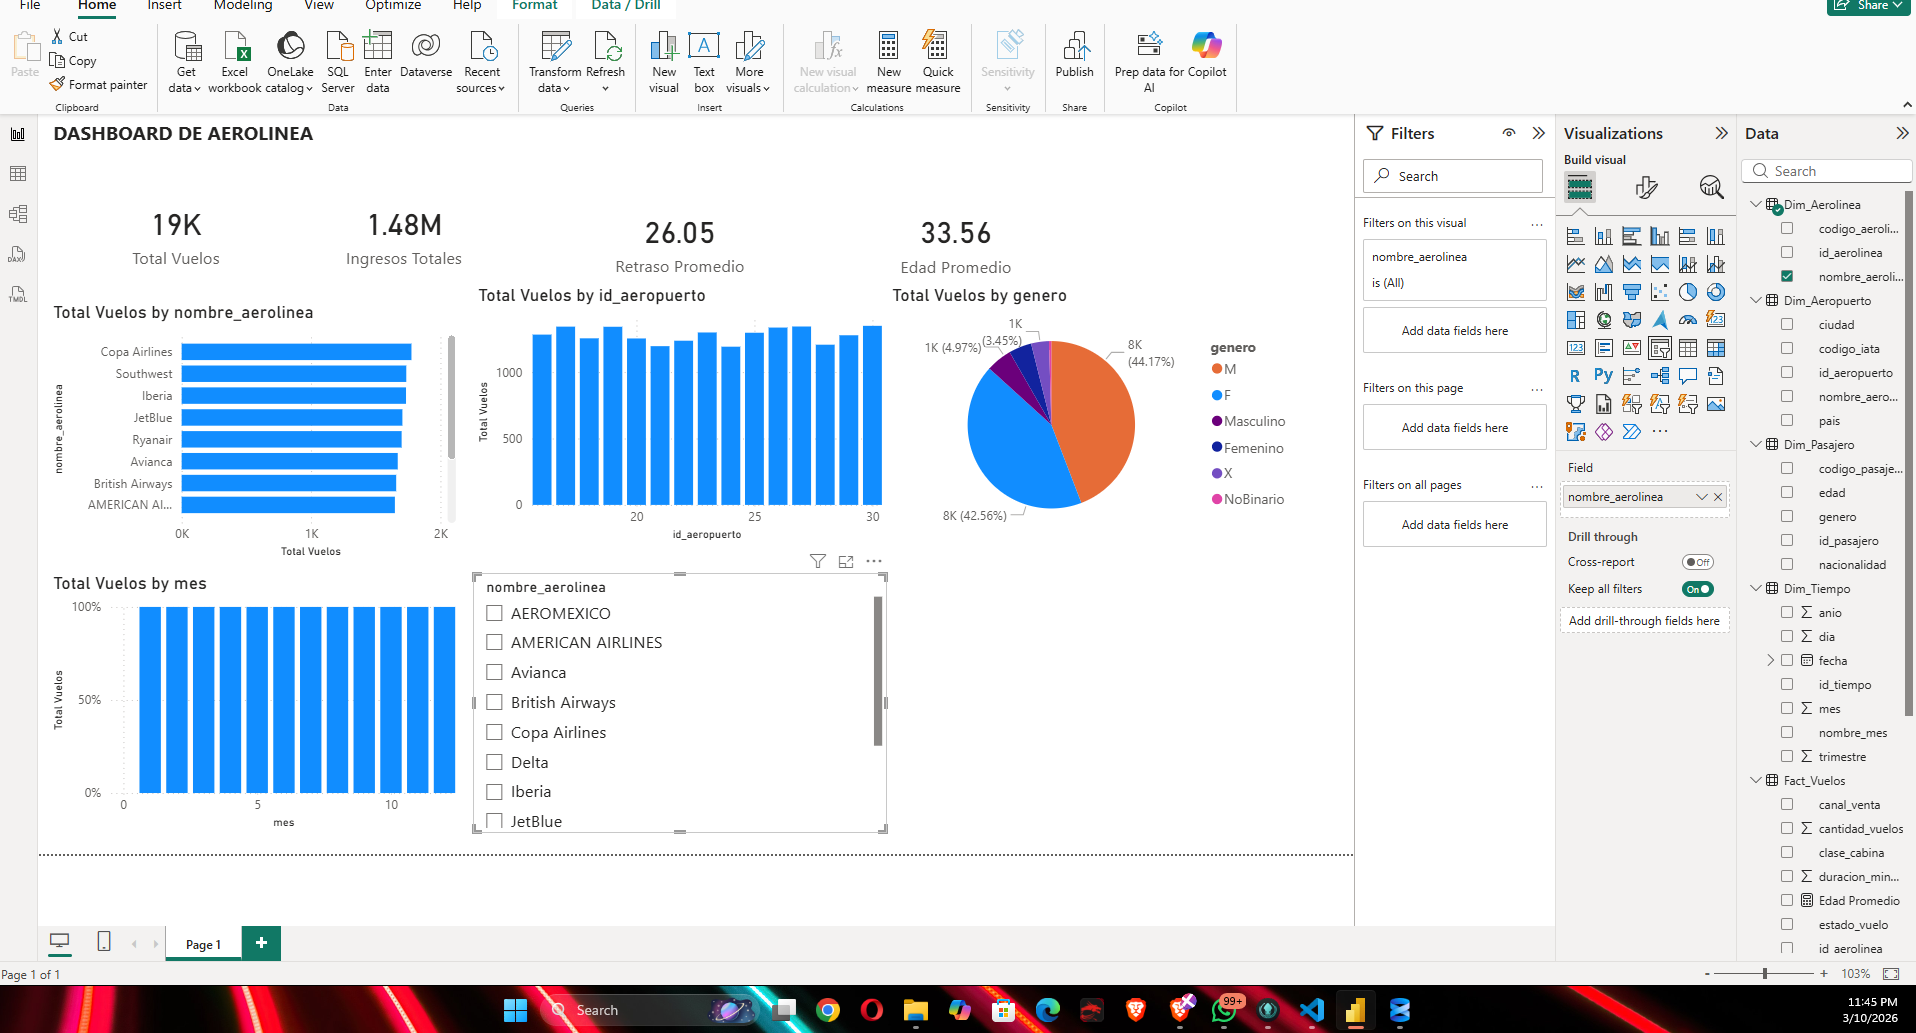

The page's visual inventory and layout, read from the dashboard file:
{"tool":"powerbi","page":{"name":"Page 1","canvas":[1280,720],"ordinal":0},"visuals":[{"type":"textbox","box":[0,0,1280,76.3],"z":0},{"type":"card","fields":{"Values":["Dim_Aerolinea.Retraso Promedio"]},"box":[0,76.3,156.7,149.4],"z":1000},{"type":"card","fields":{"Values":["Dim_Aerolinea.Estado Retraso"]},"box":[156.7,76.3,156.7,149.4],"z":1001},{"type":"card","fields":{"Values":["Dim_Aerolinea.Edad Promedio"]},"box":[0,225.7,156.7,108.7],"z":1002},{"type":"card","fields":{"Values":["Dim_Aerolinea.Total Maletas"]},"box":[0,334.4,156.7,149.4],"z":1003},{"type":"card","fields":{"Values":["Dim_Aerolinea.Total Vuelos"]},"box":[156.7,334.4,156.7,149.4],"z":1004},{"type":"card","fields":{"Values":["Dim_Aerolinea.Ingresos Totales"]},"box":[157.8,225.7,155.7,108.7],"z":1005},{"type":"barChart","fields":{"Category":["Dim_Aerolinea.nombre_aerolinea"],"Y":["Dim_Aerolinea.Total Vuelos"]},"box":[314.5,76.3,503.6,404.4],"z":1006},{"type":"donutChart","fields":{"Category":["Dim_Pasajero.genero"],"Y":["Dim_Aerolinea.Total Vuelos"]},"box":[0,480.7,403.3,239.3],"z":1007},{"type":"hundredPercentStackedColumnChart","fields":{"Y":["Dim_Aerolinea.Total Vuelos"],"Category":["Dim_Tiempo.nombre_mes"]},"box":[818.2,74.2,461.8,406.5],"z":1008},{"type":"slicer","fields":{"Values":["Dim_Aerolinea.nombre_aerolinea"]},"box":[403.3,480.7,414.8,239.3],"z":1009},{"type":"slicer","fields":{"Values":["Dim_Pasajero.genero"]},"box":[818.2,480.7,461.8,239.3],"z":1010}]}

Visuals, with their boxes on the page's 1280x720 design canvas (x1, y1, x2, y2). These are canvas units, not pixel positions in the 1916x1033 screenshot, which may show the page scaled, cropped or inside an application window:
textbox: 0/0/1280/76
card - Dim_Aerolinea.Retraso Promedio: 0/76/157/226
card - Dim_Aerolinea.Estado Retraso: 157/76/313/226
card - Dim_Aerolinea.Edad Promedio: 0/226/157/334
card - Dim_Aerolinea.Total Maletas: 0/334/157/484
card - Dim_Aerolinea.Total Vuelos: 157/334/313/484
card - Dim_Aerolinea.Ingresos Totales: 158/226/314/334
barChart - Dim_Aerolinea.nombre_aerolinea x Dim_Aerolinea.Total Vuelos: 314/76/818/481
donutChart - Dim_Pasajero.genero x Dim_Aerolinea.Total Vuelos: 0/481/403/720
hundredPercentStackedColumnChart - Dim_Aerolinea.Total Vuelos x Dim_Tiempo.nombre_mes: 818/74/1280/481
slicer - Dim_Aerolinea.nombre_aerolinea: 403/481/818/720
slicer - Dim_Pasajero.genero: 818/481/1280/720
